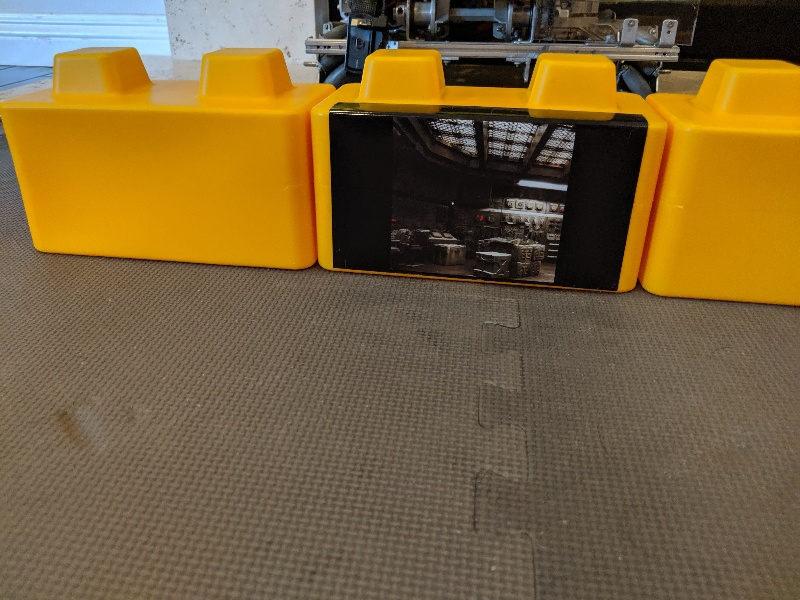Skystone: (321, 94, 651, 299)
